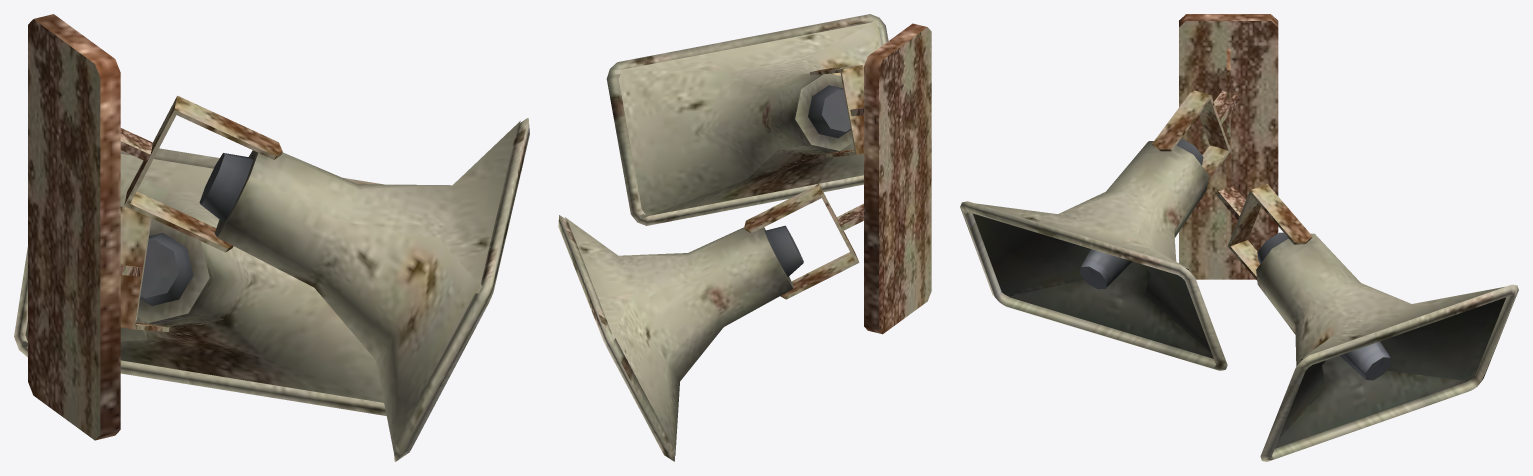
File: speakercluster01a.glb
3 views of the same model, side by side, from view 1: azimuth 30°, elevation 25°; view 2: azimuth 150°, elevation 25°; view 3: azimuth 270°, elevation 25° (orthographic). The views are drawn at different scales.
Visible parts, largest first — view 1: 0_SpeakerCluster01a; view 2: 0_SpeakerCluster01a; view 3: 0_SpeakerCluster01a.
Boxes of the visible parts, x1=… form: 0_SpeakerCluster01a: x1=14, y1=14, x2=529, y2=461; 0_SpeakerCluster01a: x1=558, y1=14, x2=931, y2=461; 0_SpeakerCluster01a: x1=960, y1=14, x2=1518, y2=461.
Size of the model in its own units: 0.7304 by 0.773 by 1.19.
Materials: 1 (1 with a texture image).
